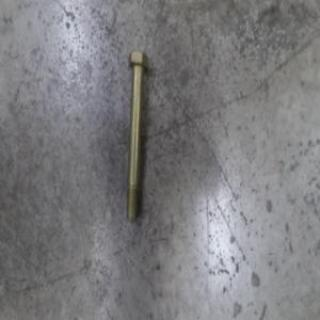Bolttrack_idkeyframe: (124, 46, 148, 225)
